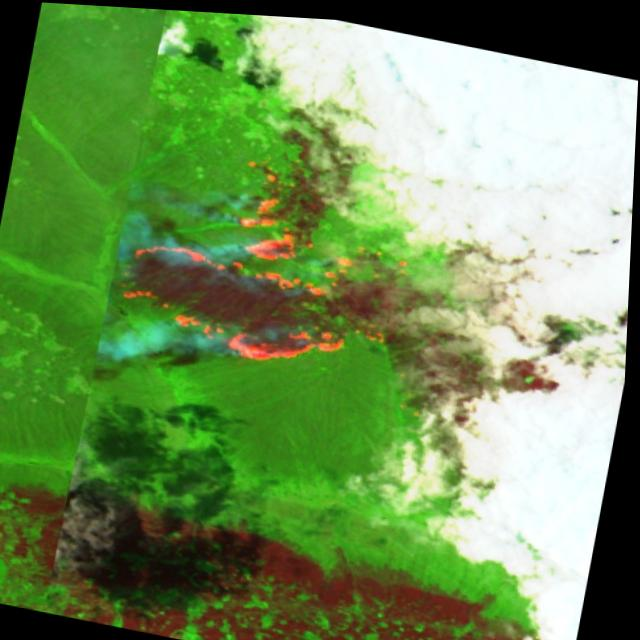fire: (105, 132, 426, 386)
